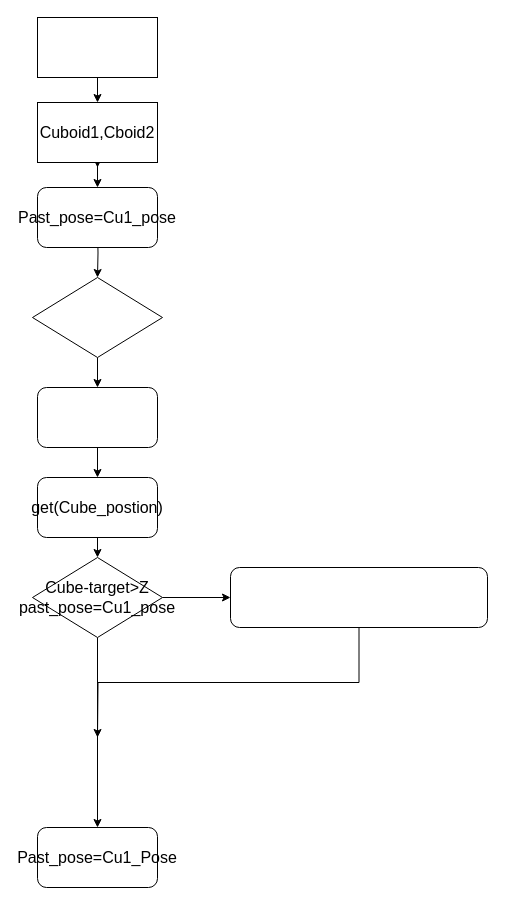
Image size: 505x905. Some labels were removed from this diagram. The centre of each missing label's shape, as x and y in pixels:
"running？" belongs at point (97, 317).
"step()" belongs at point (97, 417).
"T_pose,K_pose" belongs at point (97, 47).
